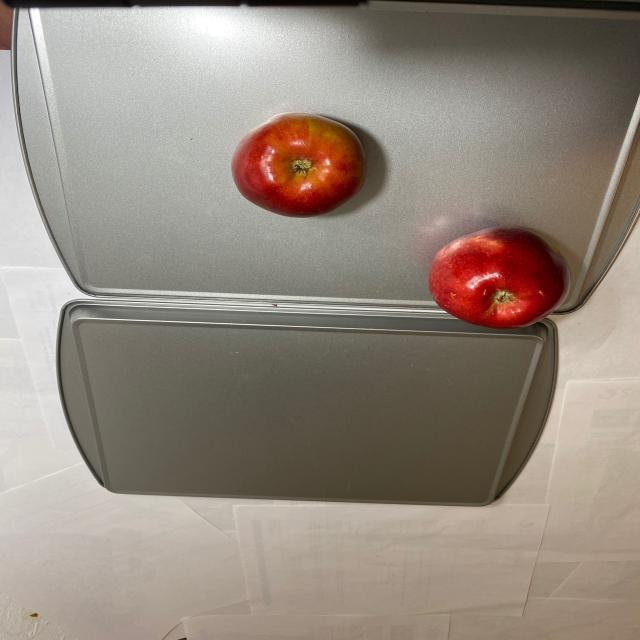apple: (427, 225, 572, 327), (231, 112, 369, 219)
